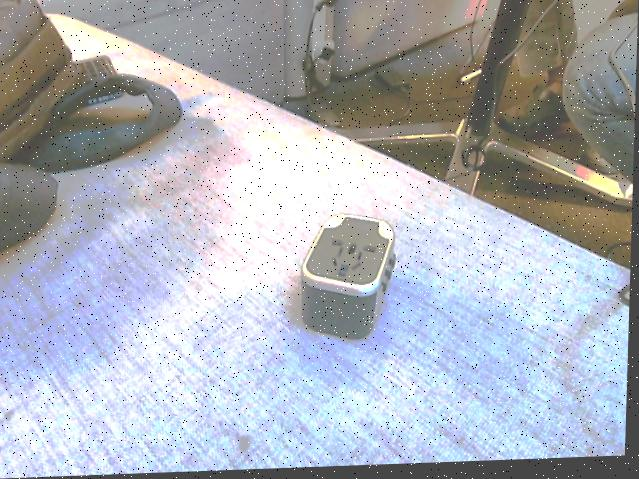adapter: (300, 213, 400, 344)
